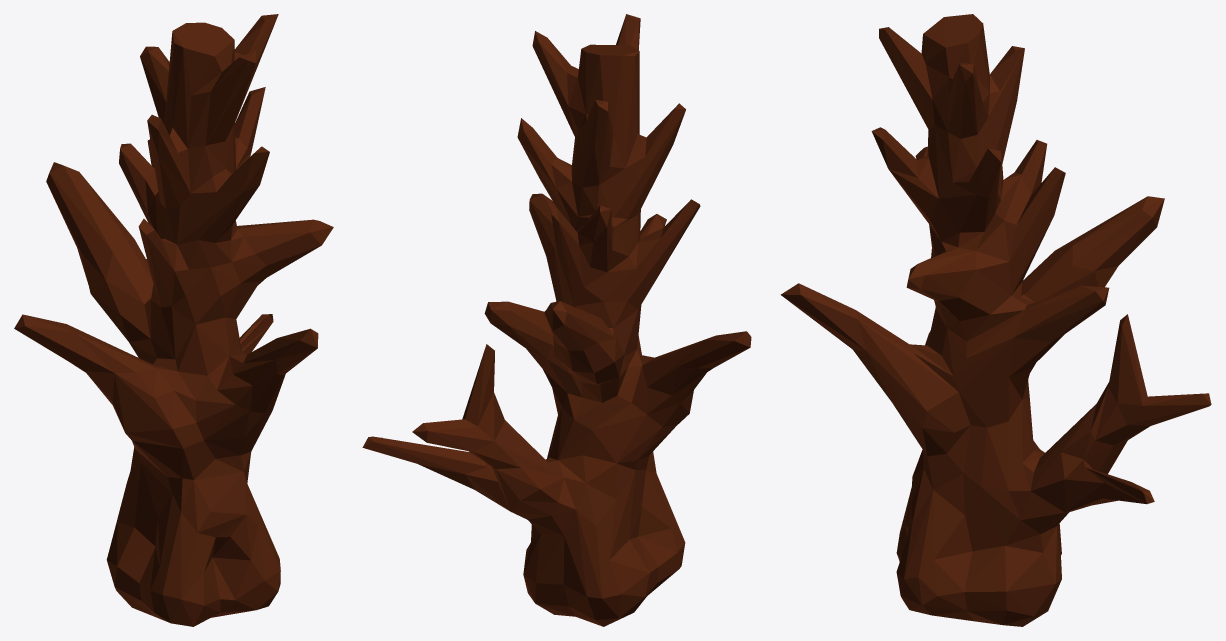
File: tree_05.fbx
The picture shows the model from 3 angles, left to right: view 1: azimuth 30°, elevation 25°; view 2: azimuth 150°, elevation 25°; view 3: azimuth 270°, elevation 25°; orthographic projection. The views are drawn at different scales.
Parts seen in each view (by area): view 1: forestree__3PM3D_Sphereinder3D.001; view 2: forestree__3PM3D_Sphereinder3D.001; view 3: forestree__3PM3D_Sphereinder3D.001.
Boxes of the visible parts, bbox=[...] form: forestree__3PM3D_Sphereinder3D.001: bbox=[14, 14, 333, 626]; forestree__3PM3D_Sphereinder3D.001: bbox=[362, 14, 751, 626]; forestree__3PM3D_Sphereinder3D.001: bbox=[780, 14, 1211, 626].
Bounding box in the file's own units: 567 × 958 × 632.
